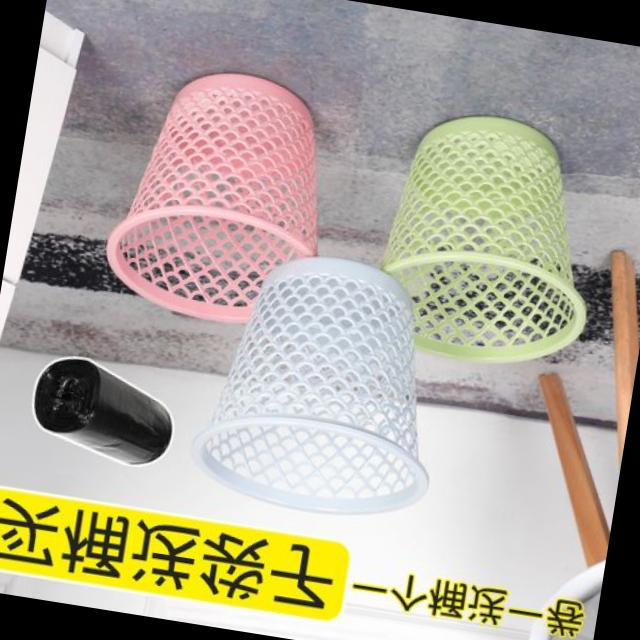dustbin: (183, 239, 467, 535), (94, 53, 347, 339), (367, 96, 618, 382)
